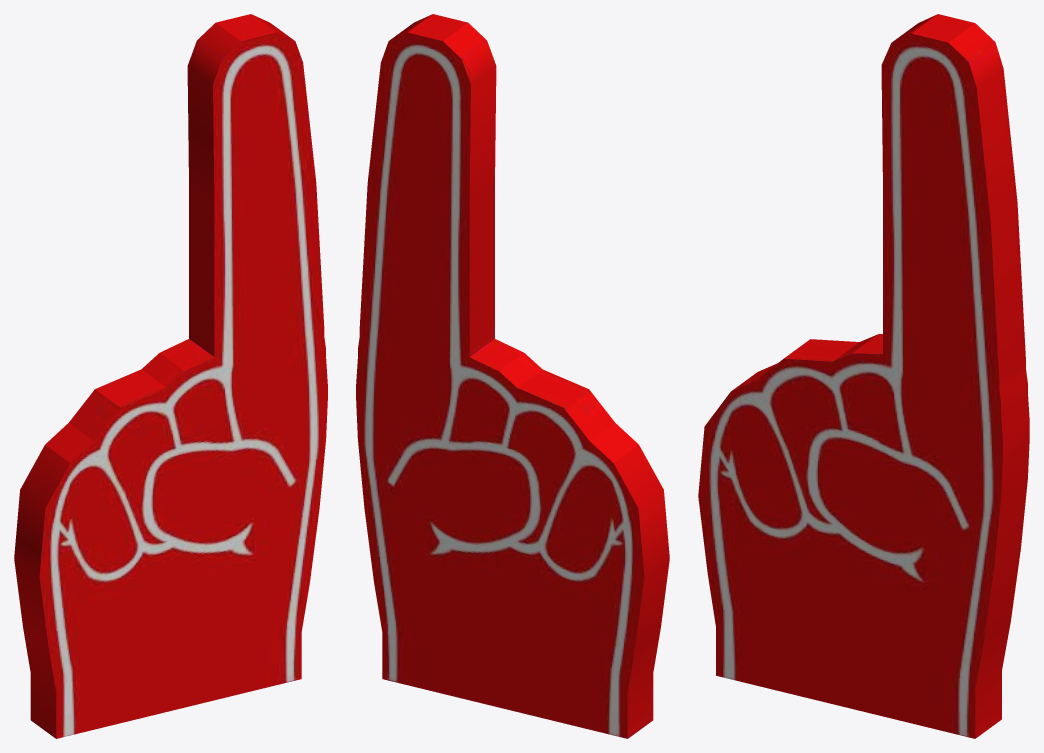
The model's file is foamHand_080505.dae.
3 views of the same model, side by side, from view 1: azimuth 30°, elevation 25°; view 2: azimuth 150°, elevation 25°; view 3: azimuth 330°, elevation 25° (orthographic). The views are drawn at different scales.
Parts seen in each view (by area): view 1: pCube1; view 2: pCube1; view 3: pCube1.
Boxes of the visible parts, left/top/right/bottom form: pCube1: left=14, top=14, right=327, bottom=738; pCube1: left=356, top=14, right=669, bottom=738; pCube1: left=698, top=14, right=1029, bottom=738.
Size of the model in its own units: 1.76 by 3.8 by 0.2681.
